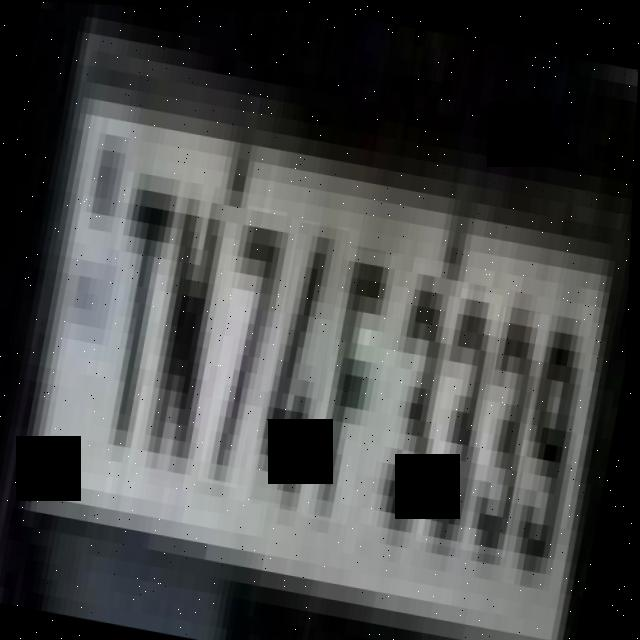3: (370, 258, 464, 537), (420, 282, 506, 545), (464, 301, 553, 554)
4: (253, 218, 352, 508)
7: (201, 202, 290, 488)
9: (509, 322, 597, 583)
F: (305, 243, 399, 523)
N: (134, 187, 242, 484)
T: (90, 164, 185, 454)
